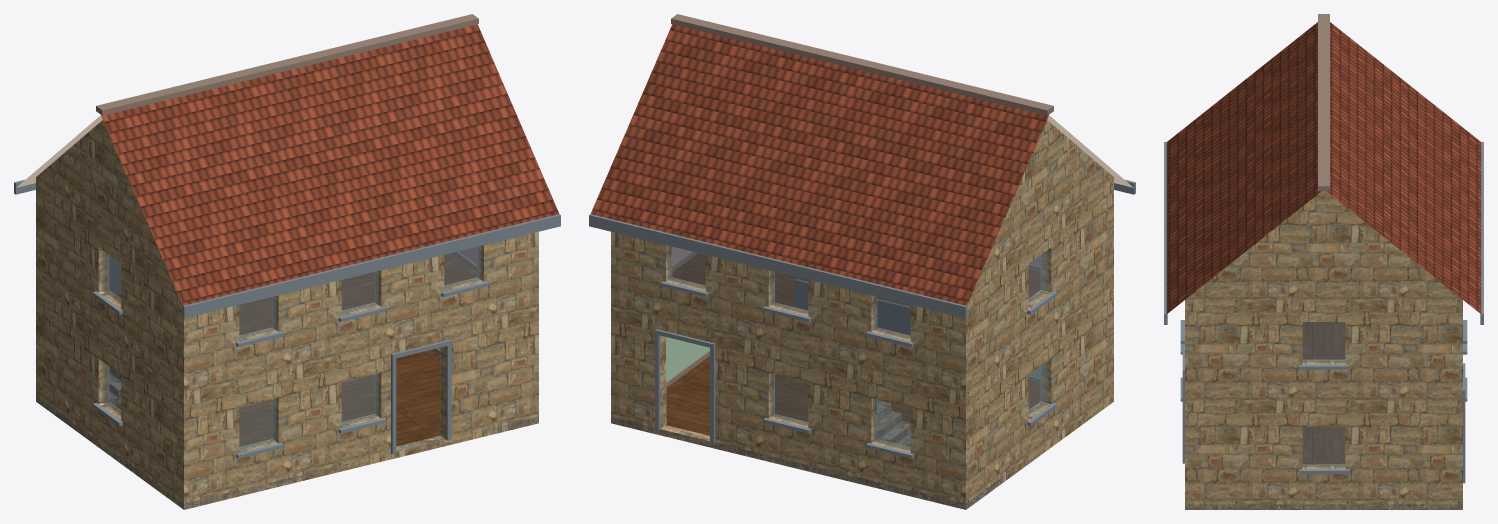
File: cottage-stone.loc-v1.lod0.glb
3 views of the same model, side by side, from view 1: azimuth 30°, elevation 25°; view 2: azimuth 150°, elevation 25°; view 3: azimuth 270°, elevation 25° (orthographic). The views are drawn at different scales.
Visible parts, largest first — view 1: cottage-stone; view 2: cottage-stone; view 3: cottage-stone.
Part boxes in pixels (box(x1,y1,x2,y2)): cottage-stone: box(14, 14, 560, 509); cottage-stone: box(589, 14, 1135, 509); cottage-stone: box(1164, 14, 1483, 509).
Bounding box in the file's own units: 9.54 × 8.48 × 7.48.
6 materials, 4 textured.
